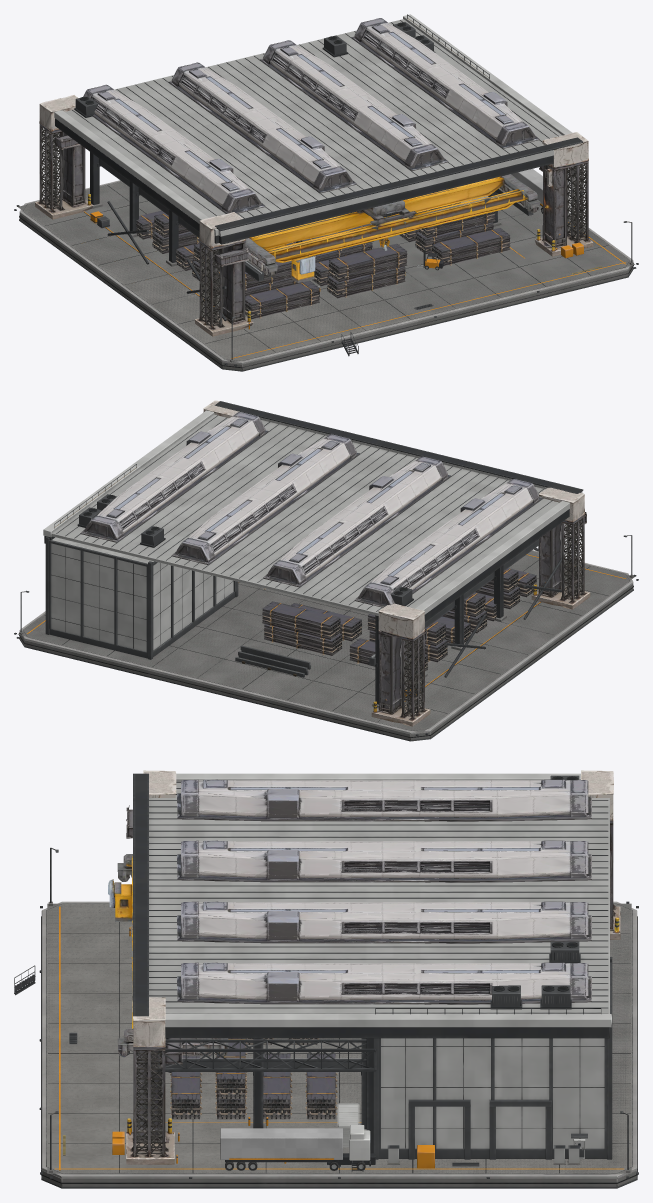
File: steel_depot.glb
3 views of the same model, one above another, from view 1: azimuth 30°, elevation 25°; view 2: azimuth 150°, elevation 25°; view 3: azimuth 270°, elevation 25° (orthographic). The views are drawn at different scales.
Parts seen in each view (by area): view 1: hull, parts_colony-roofMonitor, parts_colony-portalColumn, parts_colony-beamStack, parts_colony-overheadCrane, parts_yard-truck; view 2: hull, parts_colony-roofMonitor, parts_colony-portalColumn, parts_colony-beamStack; view 3: hull, parts_colony-roofMonitor, parts_colony-portalColumn, parts_colony-beamStack, parts_yard-truck, parts_colony-overheadCrane, parts_container.
Part boxes in pixels (left/top/right/bottom): hull: left=14, top=14, right=638, bottom=371; parts_colony-roofMonitor: left=83, top=18, right=539, bottom=213; parts_colony-portalColumn: left=35, top=95, right=593, bottom=336; parts_colony-beamStack: left=136, top=202, right=510, bottom=319; parts_colony-overheadCrane: left=245, top=174, right=540, bottom=282; parts_yard-truck: left=511, top=169, right=542, bottom=213; hull: left=14, top=401, right=638, bottom=741; parts_colony-roofMonitor: left=80, top=412, right=542, bottom=607; parts_colony-portalColumn: left=203, top=400, right=590, bottom=726; parts_colony-beamStack: left=238, top=568, right=536, bottom=674; hull: left=14, top=773, right=638, bottom=1188; parts_colony-roofMonitor: left=177, top=779, right=591, bottom=1004; parts_colony-portalColumn: left=126, top=770, right=620, bottom=1164; parts_colony-beamStack: left=170, top=1038, right=337, bottom=1119; parts_yard-truck: left=220, top=1125, right=375, bottom=1170; parts_colony-overheadCrane: left=108, top=854, right=228, bottom=1057; parts_container: left=337, top=1103, right=359, bottom=1147.
Size of the model in its own units: 72.42 by 21.53 by 69.28.
Materials: 10 (10 with a texture image).
